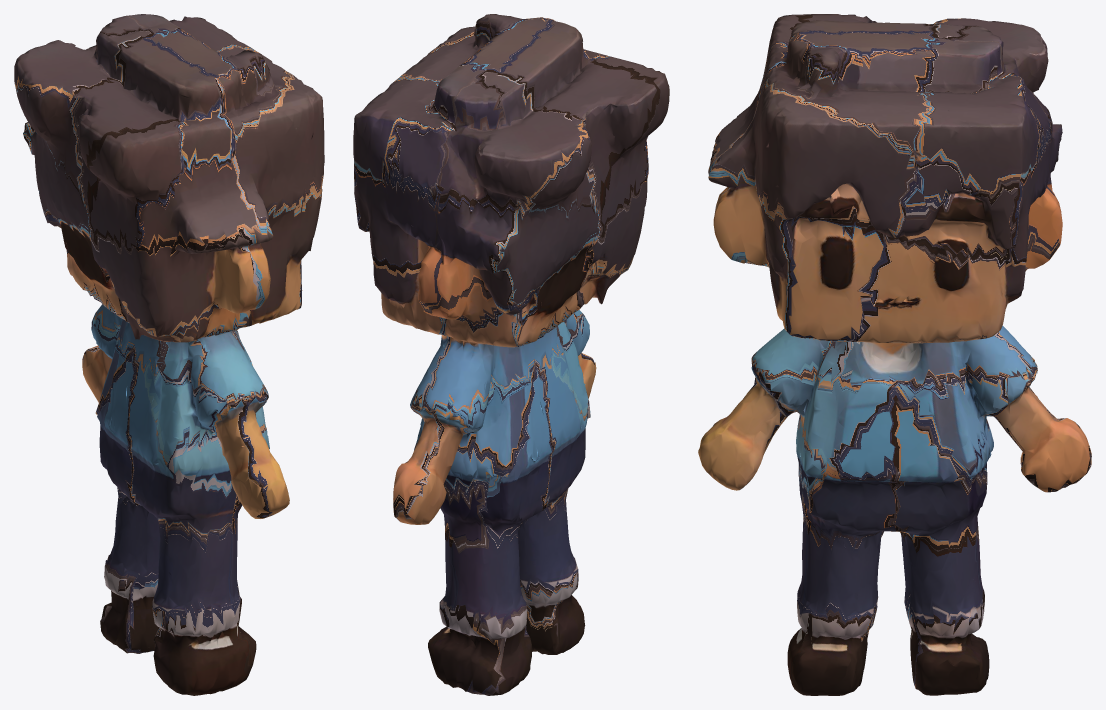
File: حقل_محروث.glb
3 views of the same model, side by side, from view 1: azimuth 30°, elevation 25°; view 2: azimuth 150°, elevation 25°; view 3: azimuth 270°, elevation 25° (orthographic). The views are drawn at different scales.
Parts seen in each view (by area): view 1: tripo_node_bc8b018a-66ab-4fd7-9af2-09a48bfe5b18; view 2: tripo_node_bc8b018a-66ab-4fd7-9af2-09a48bfe5b18; view 3: tripo_node_bc8b018a-66ab-4fd7-9af2-09a48bfe5b18.
Boxes of the visible parts, x1=… form: tripo_node_bc8b018a-66ab-4fd7-9af2-09a48bfe5b18: x1=14, y1=14, x2=324, y2=695; tripo_node_bc8b018a-66ab-4fd7-9af2-09a48bfe5b18: x1=353, y1=14, x2=669, y2=695; tripo_node_bc8b018a-66ab-4fd7-9af2-09a48bfe5b18: x1=698, y1=14, x2=1091, y2=695.
Size of the model in its own units: 0.3632 by 1 by 0.5449.
1 material, 1 textured.
